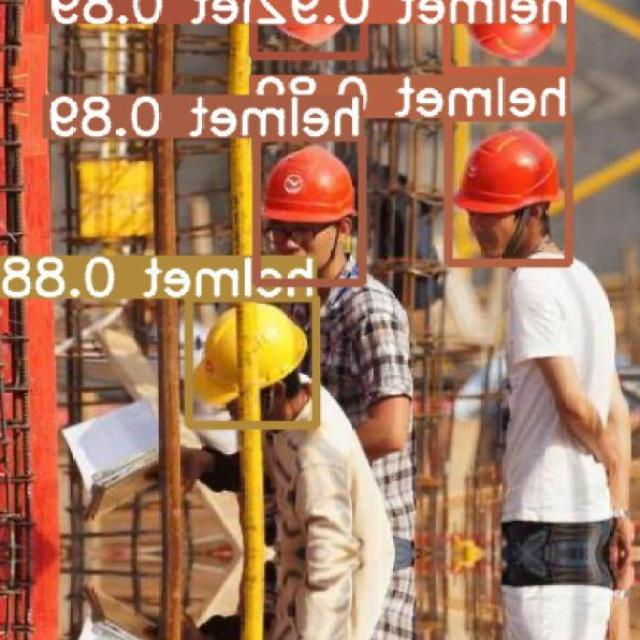helmet: (193, 302, 310, 405), (453, 128, 562, 215), (262, 144, 358, 224)
